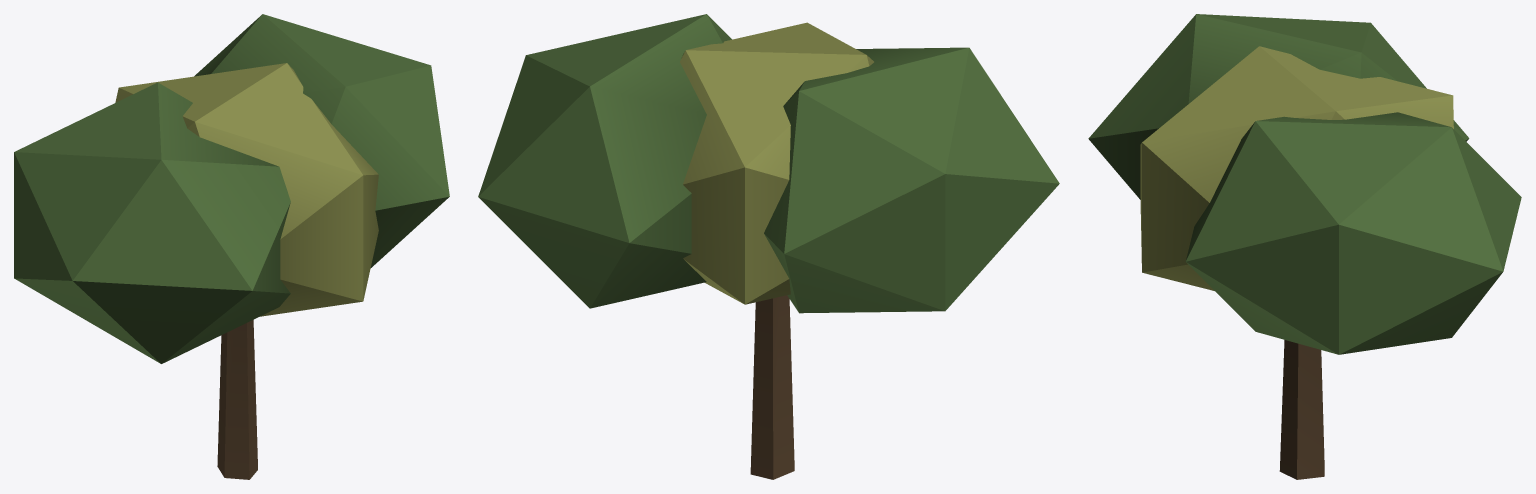
File: tree-olive-1.glb
3 views of the same model, side by side, from view 1: azimuth 30°, elevation 25°; view 2: azimuth 150°, elevation 25°; view 3: azimuth 270°, elevation 25° (orthographic). The views are drawn at different scales.
Visible parts, largest first — view 1: tree-olive-1; view 2: tree-olive-1; view 3: tree-olive-1.
Boxes of the visible parts, x1=… form: tree-olive-1: x1=14, y1=14, x2=449, y2=479; tree-olive-1: x1=478, y1=14, x2=1059, y2=479; tree-olive-1: x1=1088, y1=14, x2=1521, y2=479.
Bounding box in the file's own units: 7 × 6 × 6.
